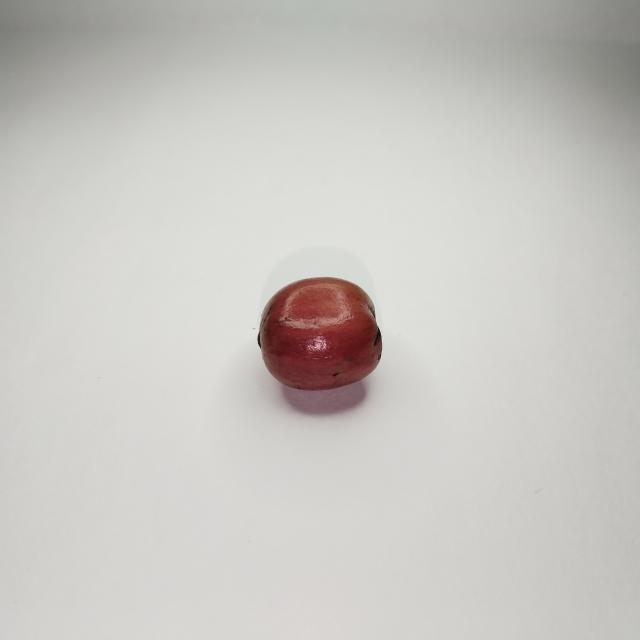Sano: (257, 276, 382, 392)
